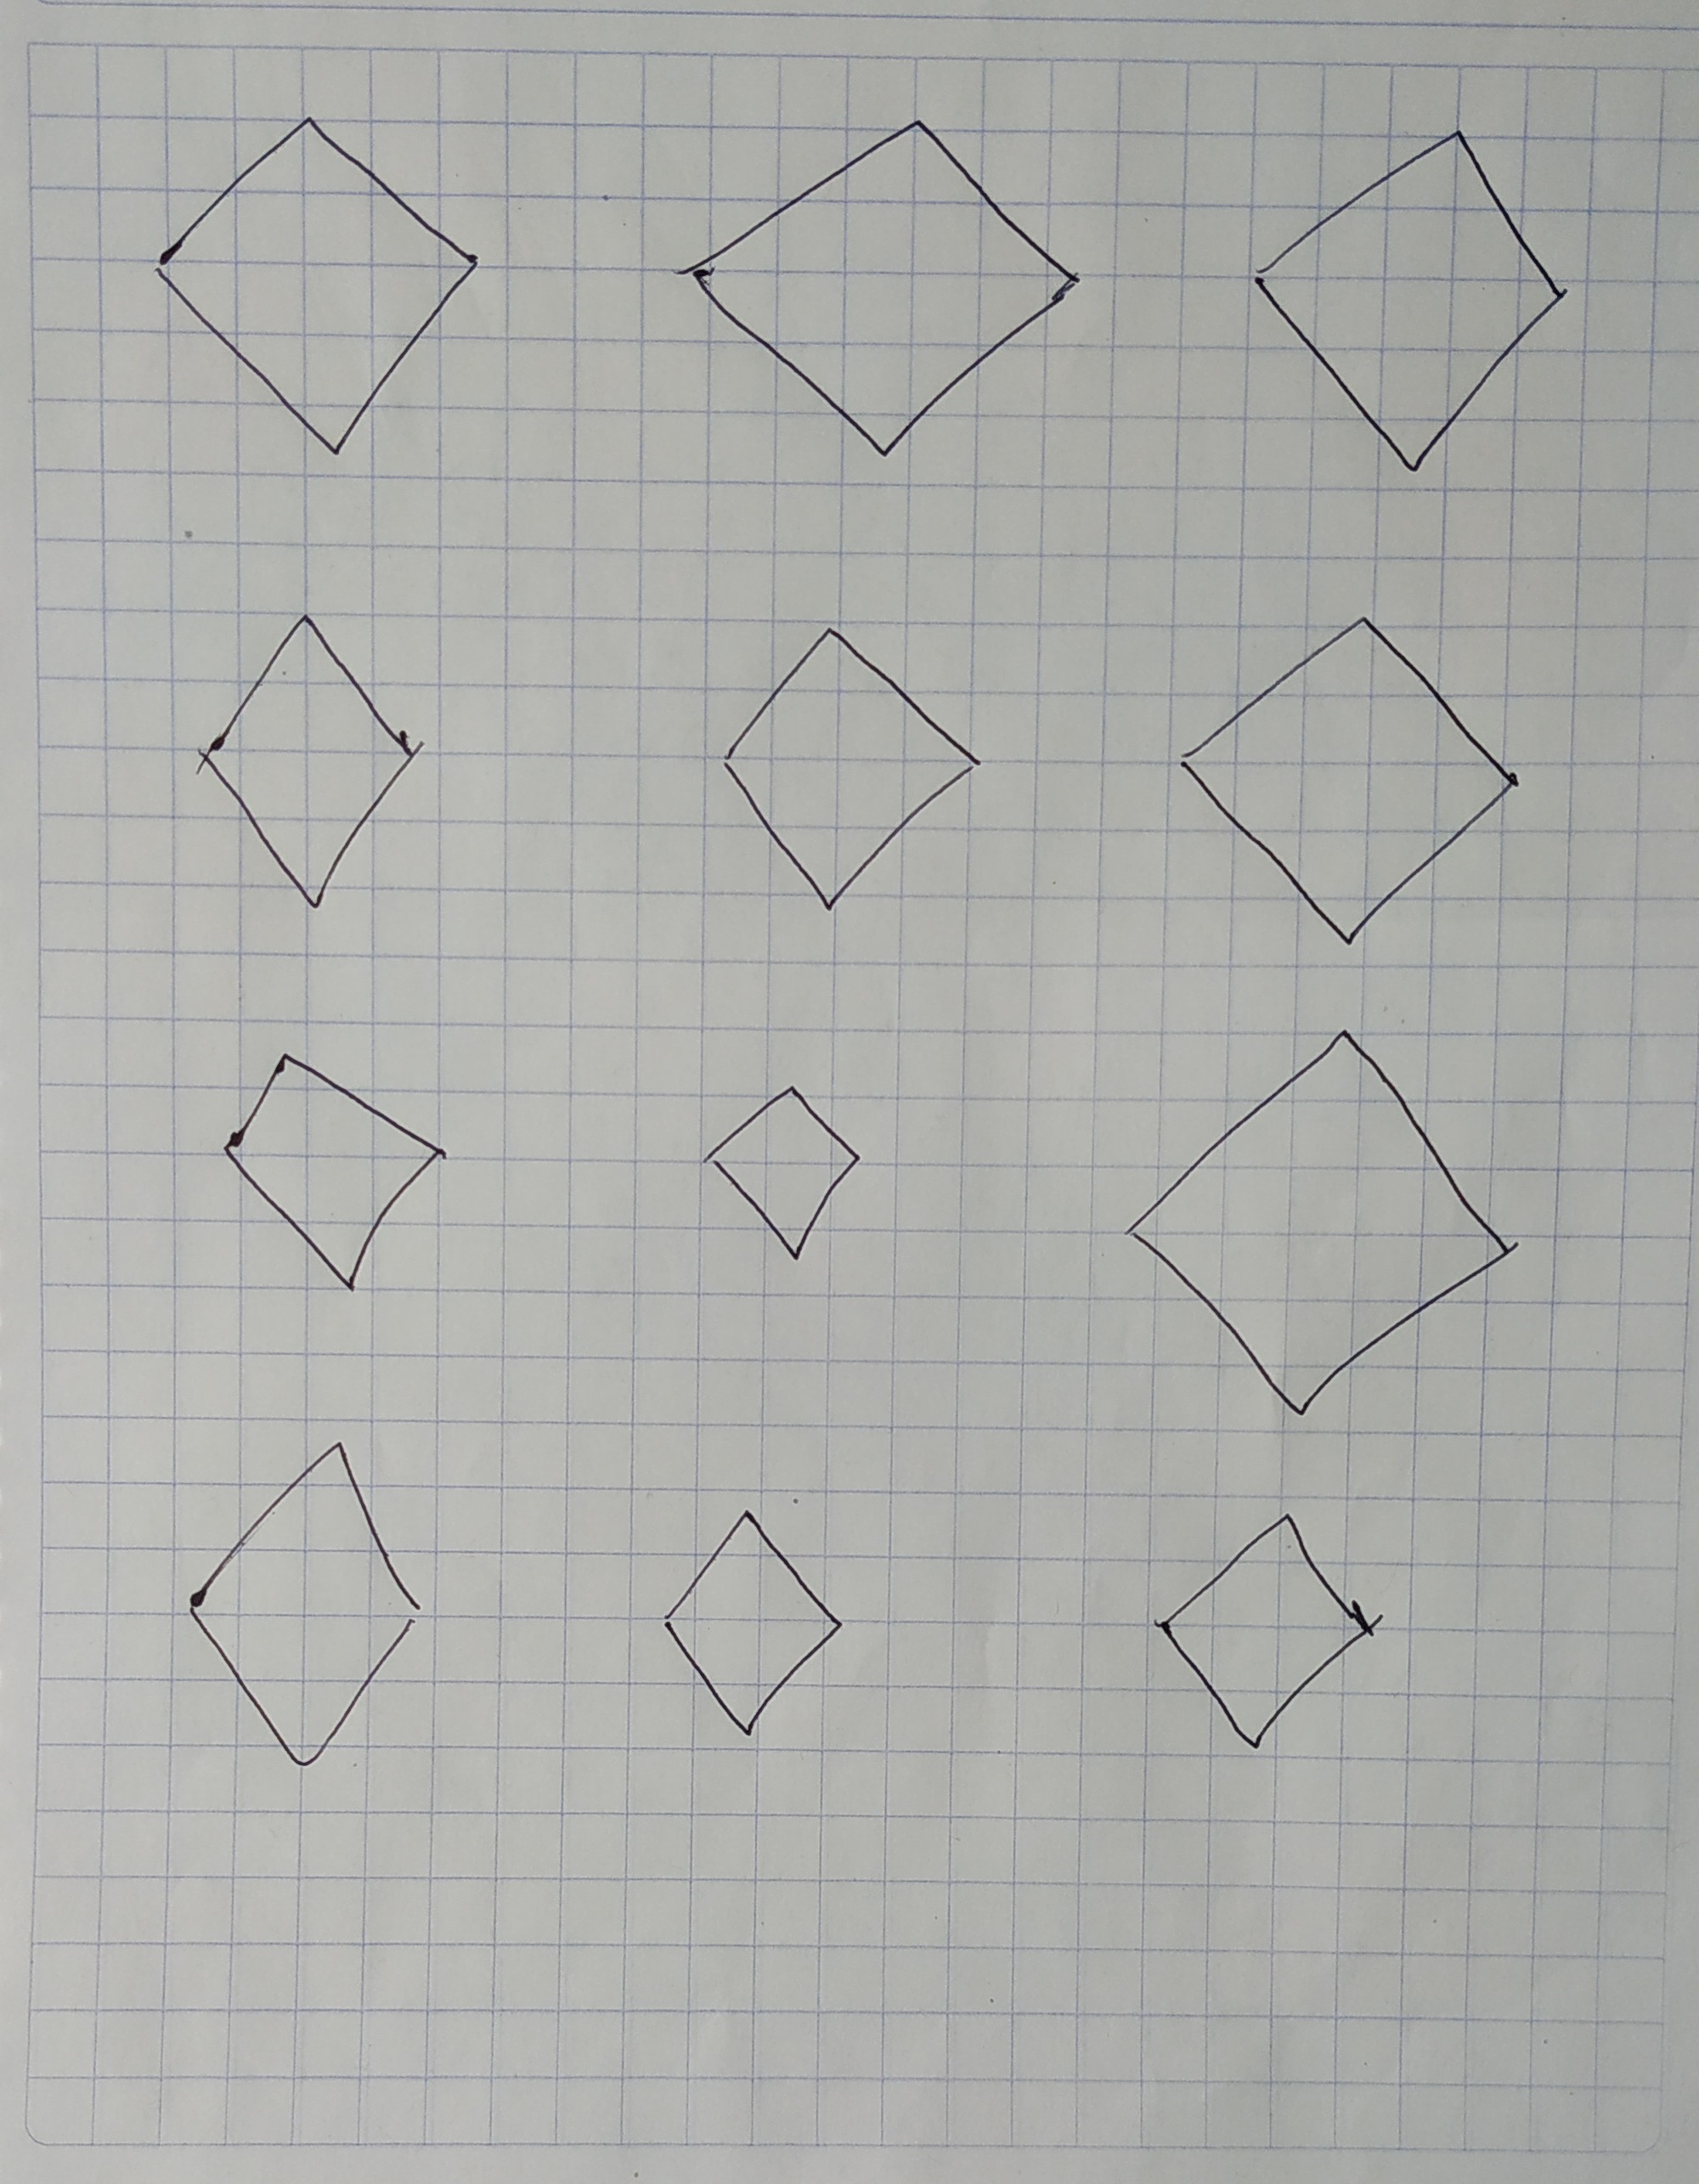decision: (1114, 1023, 1520, 1423), (681, 113, 1089, 468), (1163, 608, 1522, 954), (149, 108, 488, 461), (1254, 126, 1577, 489), (184, 1434, 433, 1776), (715, 619, 984, 918), (188, 601, 424, 922), (220, 1042, 447, 1305), (1147, 1509, 1374, 1764), (656, 1501, 848, 1744), (697, 1080, 869, 1266)
